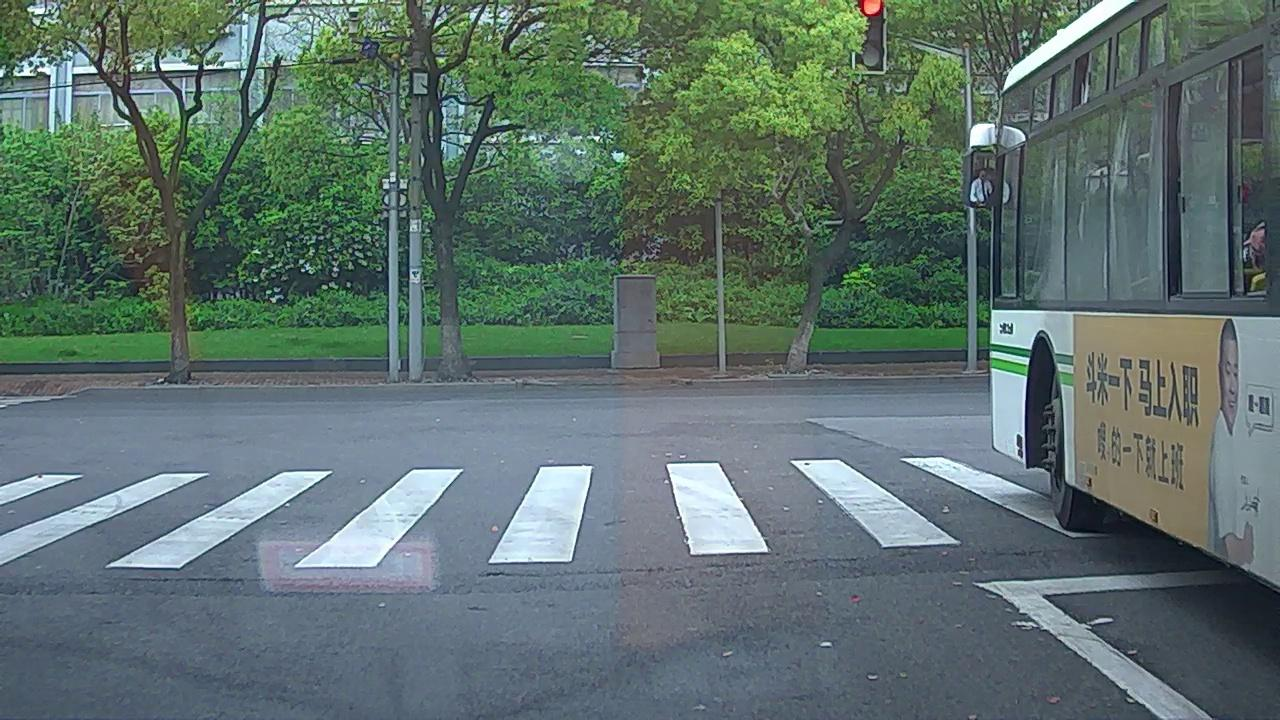traffic_light: (855, 1, 885, 74)
